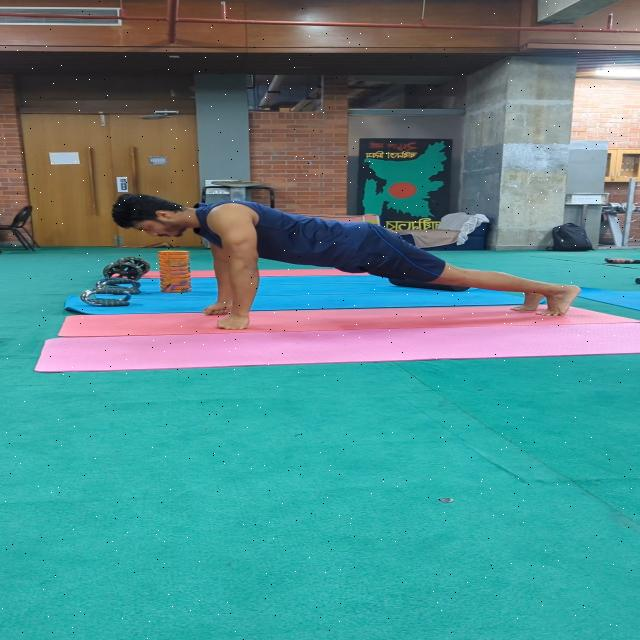Normal_PushUps: (100, 192, 586, 336)
